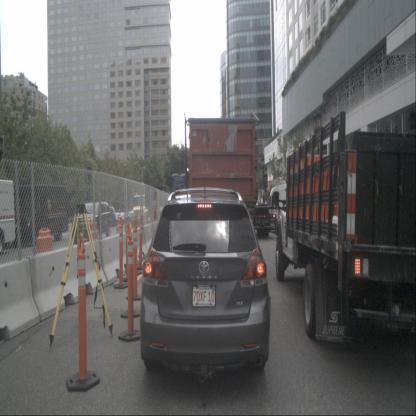movable_object-barrier: (26, 239, 108, 323), (0, 254, 40, 343), (100, 225, 148, 287), (142, 220, 168, 261)
movable_object-trafficcone: (66, 233, 100, 393), (118, 226, 144, 342), (33, 224, 56, 318), (125, 215, 144, 301), (112, 218, 129, 290), (88, 218, 100, 290), (115, 216, 124, 268), (137, 214, 145, 271)
vehicle-car: (140, 188, 272, 383), (268, 181, 326, 237), (72, 203, 112, 243), (100, 206, 116, 227), (109, 211, 121, 224), (119, 212, 129, 223), (124, 211, 132, 222)
vehicle-truck: (275, 111, 416, 349), (184, 110, 258, 255), (222, 149, 272, 237), (8, 185, 68, 243), (0, 178, 16, 259), (132, 186, 162, 227)
